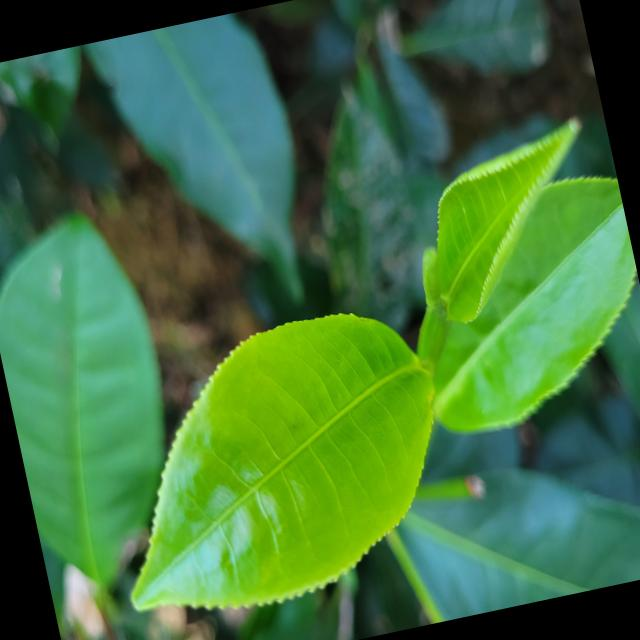Catagory A(1-2 days): (392, 104, 626, 339)
